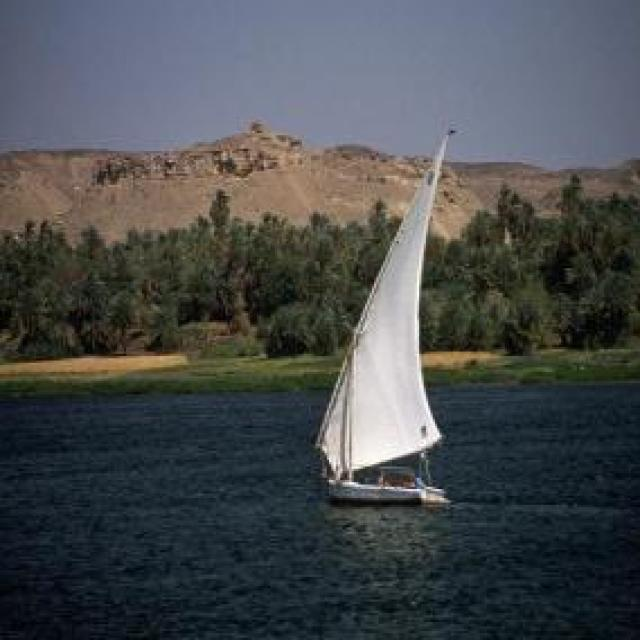sailboat: (305, 124, 464, 508)
